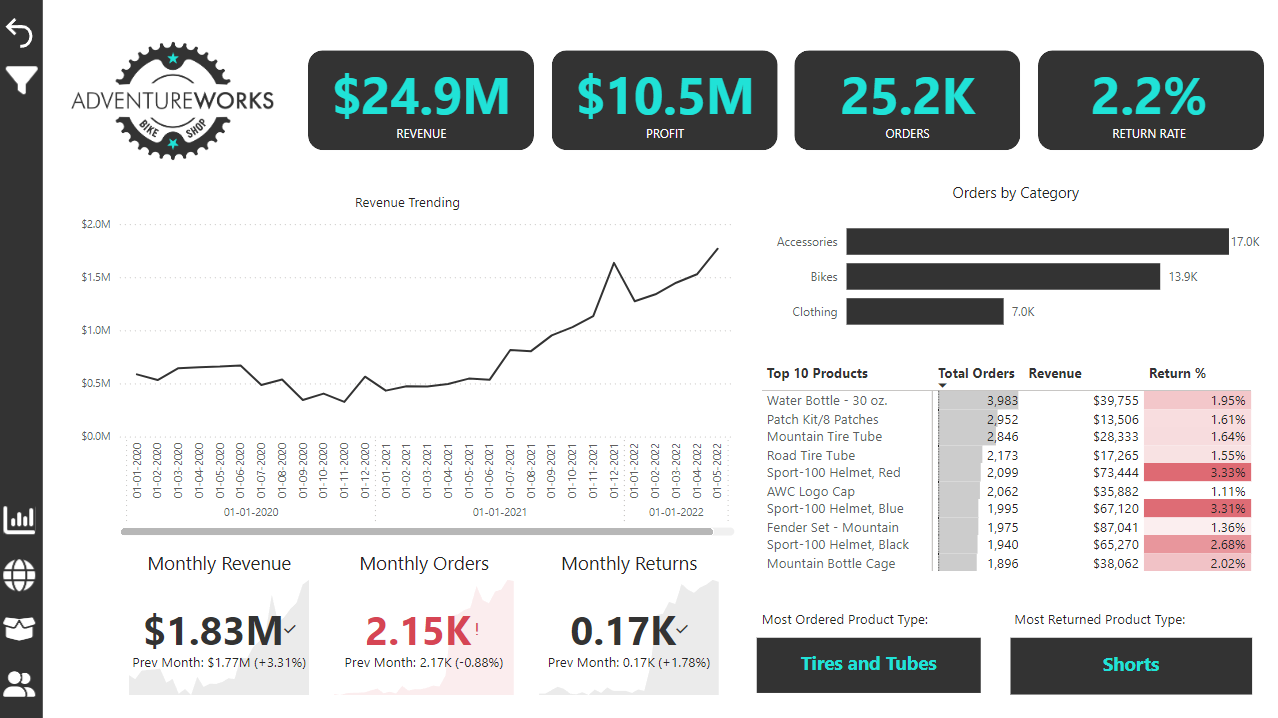

What the dashboard file says about the page in this screenshot:
{"tool":"powerbi","page":{"name":"Exec Dashboard","canvas":[1280,720],"ordinal":0},"visuals":[{"type":"shape","title":"Left NAV Background","box":[0,0,45,720],"z":0},{"type":"card","fields":{"Values":["Measure Table.Total Revenue"]},"box":[272,34,302,136],"z":0,"group":"g2"},{"type":"group","id":"g1","title":"KPI Backgrounds","box":[310,52,956,100],"z":0,"group":"g3"},{"type":"shape","box":[310,52,226,100],"z":0,"group":"g1"},{"type":"actionButton","box":[0.8,501.7,45,40],"z":0,"group":"g4"},{"type":"image","title":"AW Logo","box":[46,0,258,204],"z":1000},{"type":"group","id":"g2","title":"KPI Values","box":[272,34,994,136],"z":1000,"group":"g3"},{"type":"card","fields":{"Values":["Measure Table.Total Orders"]},"box":[758,34,302,136],"z":1000,"group":"g2"},{"type":"shape","box":[553.3,52,226,100],"z":1000,"group":"g1"},{"type":"actionButton","box":[0.8,556.1,45,40],"z":1000,"group":"g4"},{"type":"group","id":"g3","title":"KPIs","box":[272,34,994,136],"z":2000},{"type":"card","fields":{"Values":["Measure Table.Return Rate"]},"box":[1036,34,230,136],"z":2000,"group":"g2"},{"type":"shape","box":[796.7,52,226,100],"z":2000,"group":"g1"},{"type":"actionButton","box":[0.8,610.6,45,40],"z":2000,"group":"g4"},{"type":"card","fields":{"Values":["Measure Table.Total Profit"]},"box":[516,34,302,136],"z":3000,"group":"g2"},{"type":"shape","box":[1040,52,226,100],"z":3000,"group":"g1"},{"type":"lineChart","title":"Revenue Trending","fields":{"Y":["Measure Table.Total Revenue"],"Category":["Calendar Lookup.Date Hierarchy.Start of Year","Calendar Lookup.Date Hierarchy.Start of Month"]},"box":[78,194,664,348],"z":3000},{"type":"actionButton","box":[0.8,665,45,40],"z":3000,"group":"g4"},{"type":"kpi","title":"Monthly Revenue","fields":{"Indicator":["Measure Table.Total Revenue"],"TrendLine":["Calendar Lookup.Date Hierarchy.Start of Month"],"Goal":["Measure Table.Previous Month Revenue"]},"box":[126,551.7,190,150],"z":4000},{"type":"kpi","title":"Monthly Orders","fields":{"TrendLine":["Calendar Lookup.Date Hierarchy.Start of Month"],"Indicator":["Measure Table.Total Orders"],"Goal":["Measure Table.Previous Month Orders"]},"box":[331.3,551.7,189.7,150],"z":5000},{"type":"kpi","title":"Monthly Returns","fields":{"TrendLine":["Calendar Lookup.Date Hierarchy.Start of Month"],"Indicator":["Measure Table.Total Returns"],"Goal":["Measure Table.Previous Month Returns"]},"box":[536.2,551.7,189.7,150],"z":6000},{"type":"barChart","title":"Orders by Category","fields":{"Category":["Product Categories Lookup.Category Name"],"Y":["Measure Table.Total Orders"]},"box":[768.3,182.9,497.9,163.8],"z":7000},{"type":"pivotTable","fields":{"Rows":["Product Lookup.Product Name"],"Values":["Measure Table.Total Orders","Measure Table.Total Revenue","Measure Table.Return Rate"]},"box":[758.6,360.3,506.9,234.5],"z":8000},{"type":"card","fields":{"Values":["Min(Product Subcategories Lookup.Subcategory Name)"]},"box":[758.6,638.9,224.1,55.2],"z":9000},{"type":"textbox","box":[758.3,606.7,210,31.7],"z":10000},{"type":"card","fields":{"Values":["Min(Product Subcategories Lookup.Subcategory Name)"]},"box":[1012.1,638.9,241.4,56.9],"z":11000},{"type":"textbox","box":[1011.7,606.7,231.7,33.3],"z":12000},{"type":"actionButton","box":[1.7,13.3,45,40],"z":13000},{"type":"group","id":"g4","title":"Navigation Buttons","box":[0.8,501.7,45,203.3],"z":14000},{"type":"actionButton","box":[3.3,61.7,45,40],"z":15000}]}

Visuals, with their boxes on the page's 1280x720 design canvas (x1, y1, x2, y2). These are canvas units, not pixel positions in the 1278x718 screenshot, which may show the page scaled, cropped or inside an application window:
"Left NAV Background" shape: 0 0 45 720
card - Measure Table.Total Revenue: 272 34 574 170
"KPI Backgrounds" group: 310 52 1266 152
shape: 310 52 536 152
actionButton: 1 502 46 542
"AW Logo" image: 46 0 304 204
"KPI Values" group: 272 34 1266 170
card - Measure Table.Total Orders: 758 34 1060 170
shape: 553 52 779 152
actionButton: 1 556 46 596
"KPIs" group: 272 34 1266 170
card - Measure Table.Return Rate: 1036 34 1266 170
shape: 797 52 1023 152
actionButton: 1 611 46 651
card - Measure Table.Total Profit: 516 34 818 170
shape: 1040 52 1266 152
"Revenue Trending" lineChart: 78 194 742 542
actionButton: 1 665 46 705
"Monthly Revenue" kpi: 126 552 316 702
"Monthly Orders" kpi: 331 552 521 702
"Monthly Returns" kpi: 536 552 726 702
"Orders by Category" barChart: 768 183 1266 347
pivotTable - Product Lookup.Product Name x Measure Table.Total Orders: 759 360 1266 595
card - Min(Product Subcategories Lookup.Subcategory Name): 759 639 983 694
textbox: 758 607 968 638
card - Min(Product Subcategories Lookup.Subcategory Name): 1012 639 1254 696
textbox: 1012 607 1243 640
actionButton: 2 13 47 53
"Navigation Buttons" group: 1 502 46 705
actionButton: 3 62 48 102
